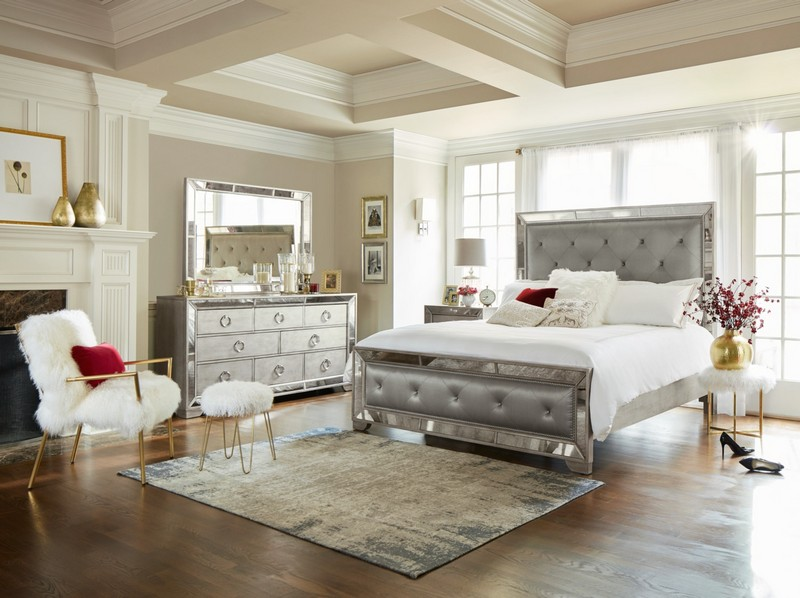bed: (350, 202, 724, 472)
chair: (11, 306, 177, 505)
lamp: (450, 234, 490, 297)
stool: (193, 375, 288, 472), (697, 361, 778, 462)
